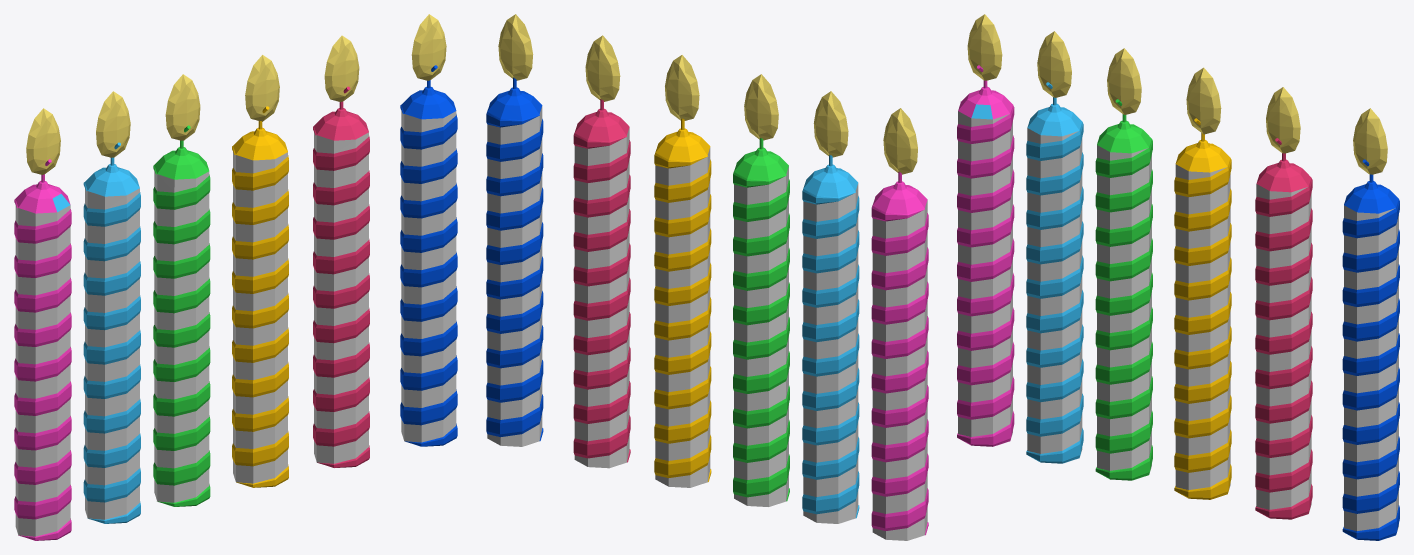
Rendered from 12v6b2zWmSG.glb.
3 views of the same model, side by side, from view 1: azimuth 30°, elevation 25°; view 2: azimuth 150°, elevation 25°; view 3: azimuth 330°, elevation 25° (orthographic).
Visible parts, largest first — view 1: Node; view 2: Node; view 3: Node.
Boxes of the visible parts, <box> form: Node: <box>14,14,457,540</box>; Node: <box>486,14,928,540</box>; Node: <box>957,14,1399,540</box>.
Bounding box in the file's own units: 1.08 × 1 × 0.1271.
